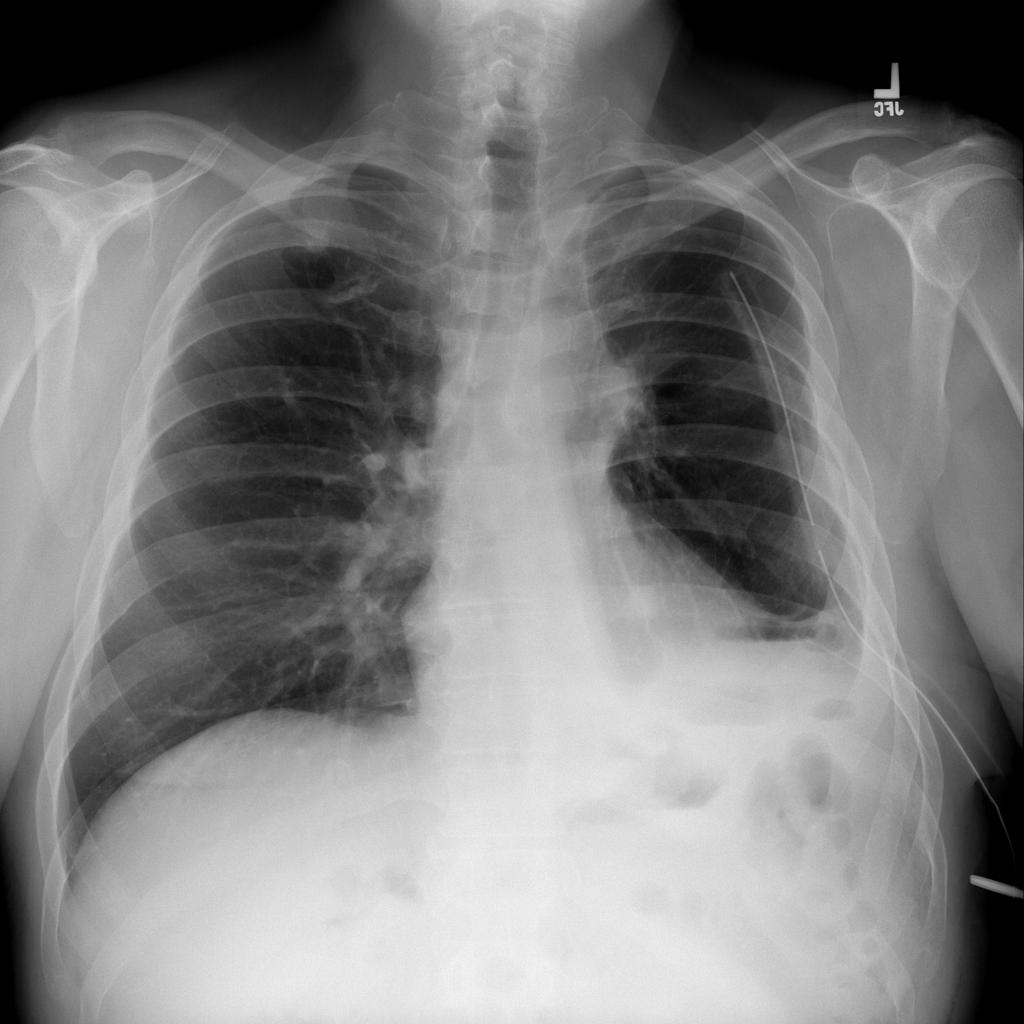nodule: (605, 565, 677, 637)
